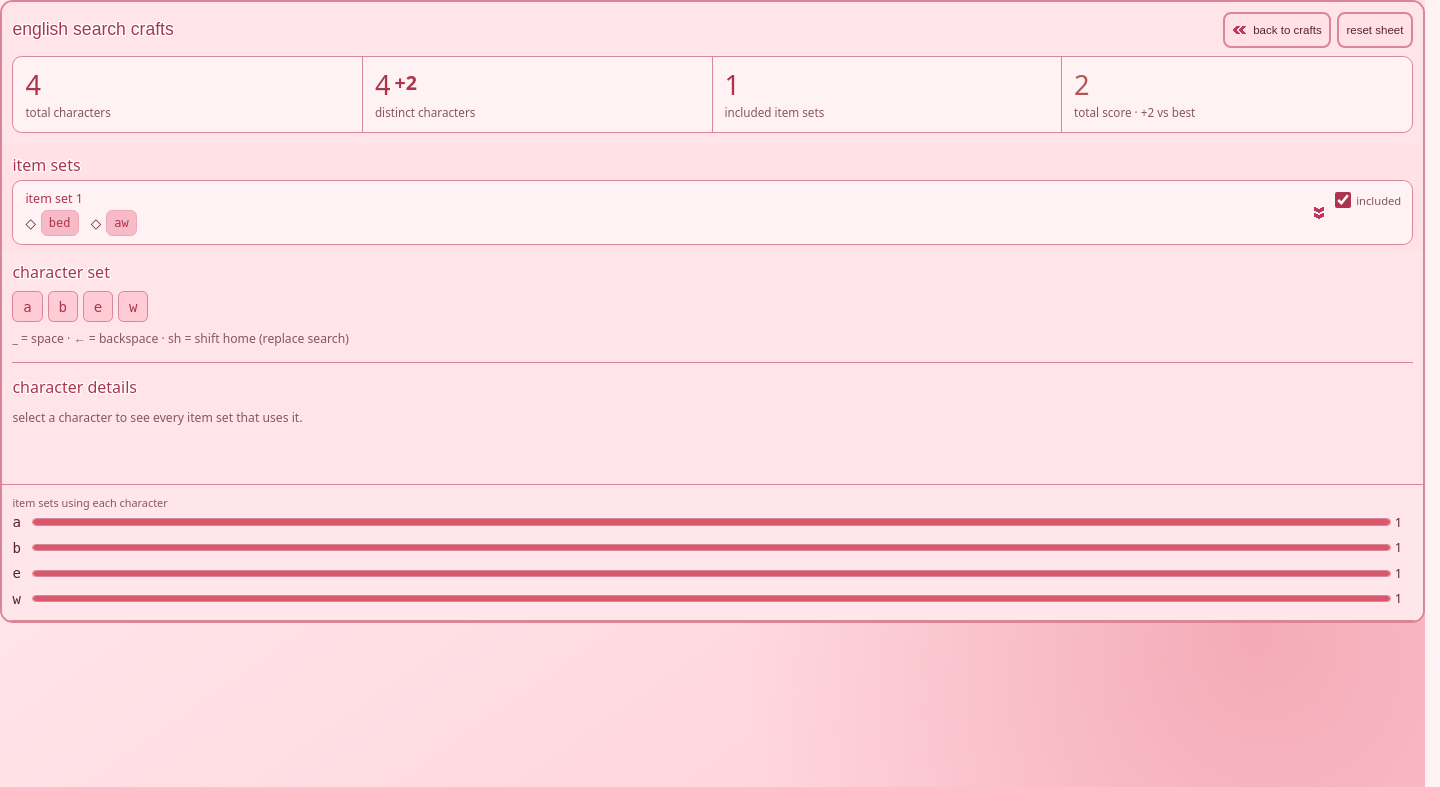
Test: CraftingSheet › always uses text controls in the crafting sheet
The width and height of the screenshot is (1440, 787).
Click the button with aria-label "Expand item set 1" at (54, 198), box [24, 188, 1328, 237]
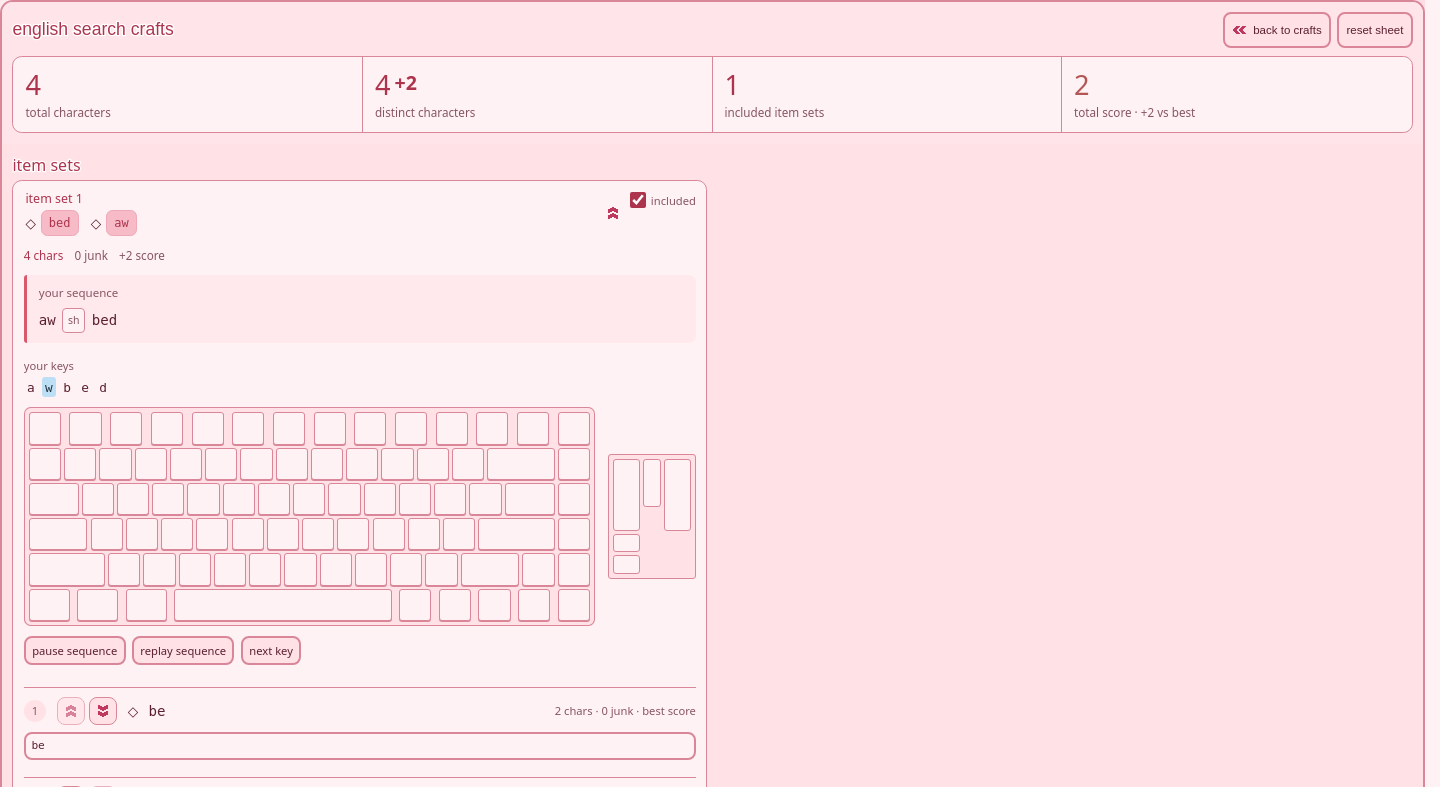
Now the text "SH" is shown, box [62, 308, 85, 333]
